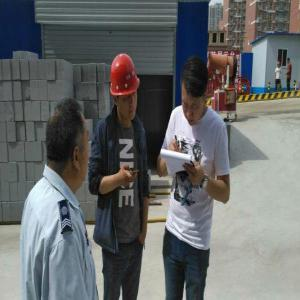none: (41, 93, 91, 198), (180, 55, 211, 130)
red: (109, 53, 141, 130)
